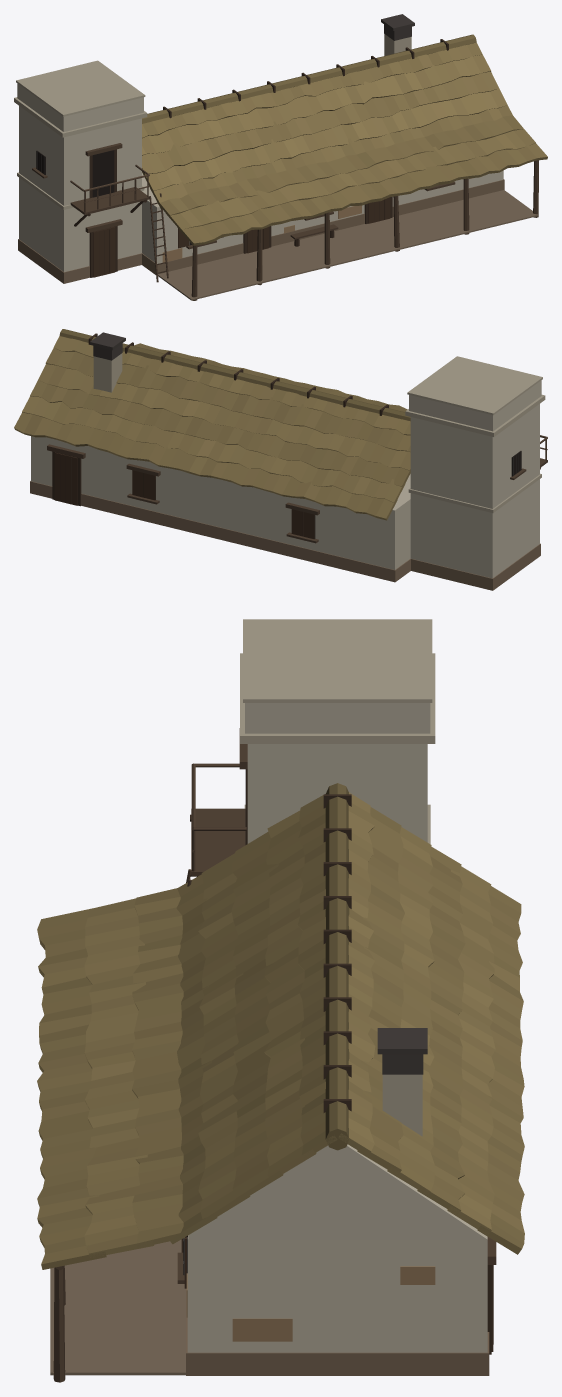
File: estancia.glb
3 views of the same model, one above another, from view 1: azimuth 30°, elevation 25°; view 2: azimuth 150°, elevation 25°; view 3: azimuth 270°, elevation 25° (orthographic). The views are drawn at different scales.
Visible parts, largest first — view 1: Estancia; view 2: Estancia; view 3: Estancia.
Boxes of the visible parts, x1,y1,x2,y2 form: Estancia: (14,14,547,300); Estancia: (14,329,547,590); Estancia: (37,619,524,1382).
Size of what is drawn, in the model's own units: 20.12 by 7.59 by 9.75.
